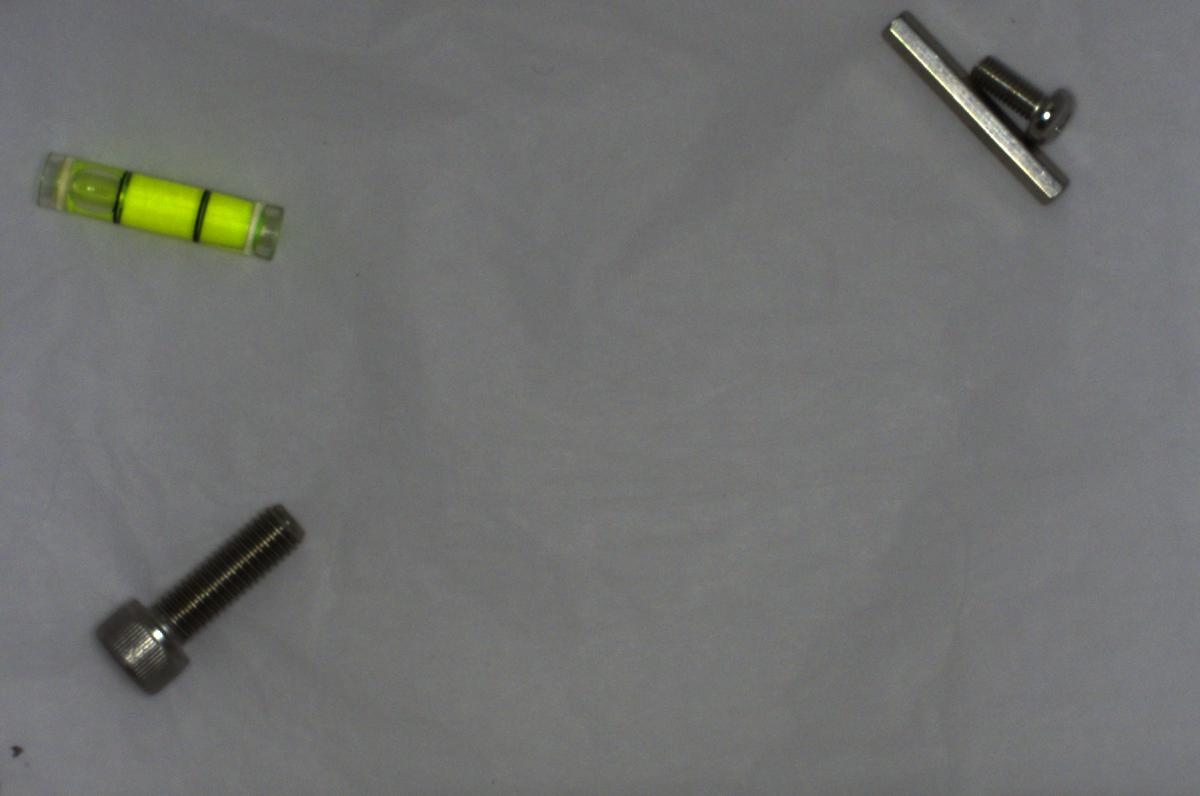Double hexagonal column: (881, 8, 1070, 201)
Hexagon screw: (90, 495, 308, 698)
Horizontal bubble: (27, 143, 287, 263)
Round head screw: (968, 47, 1081, 147)
